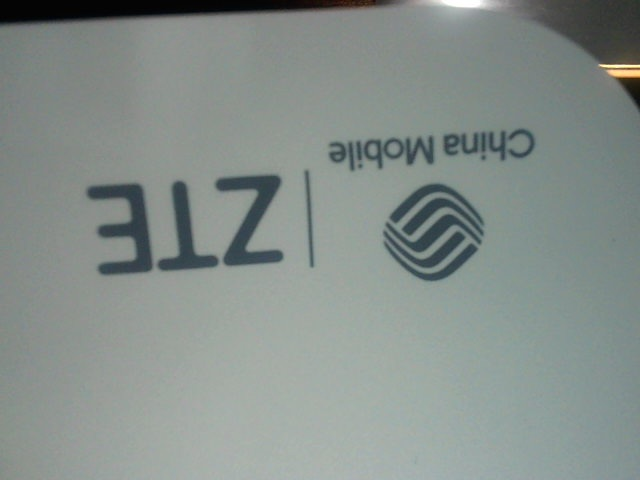AL_ZTEChinaMobile: (61, 120, 562, 288)
